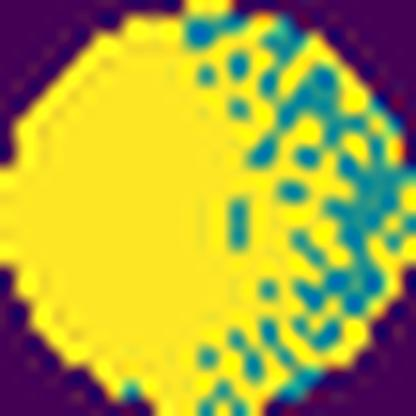Near-full: (0, 0, 298, 416)
